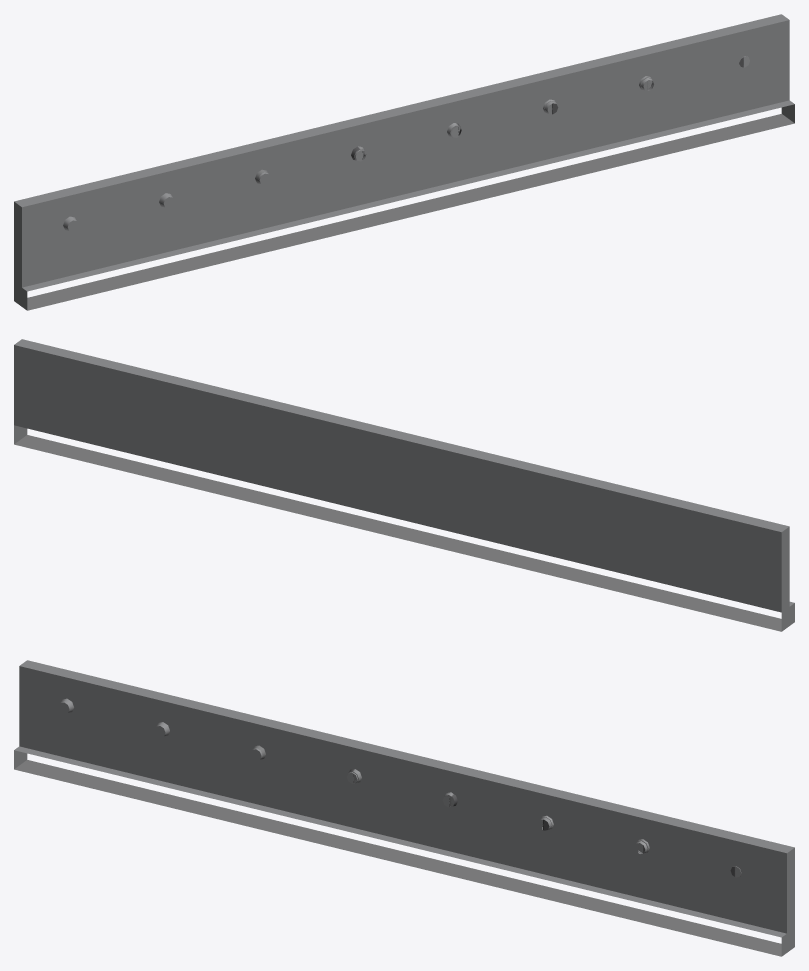
3 views of the same model, one above another, from view 1: azimuth 30°, elevation 25°; view 2: azimuth 150°, elevation 25°; view 3: azimuth 330°, elevation 25° (orthographic).
Bounding box in the file's own units: 1 × 0.124 × 0.03.
